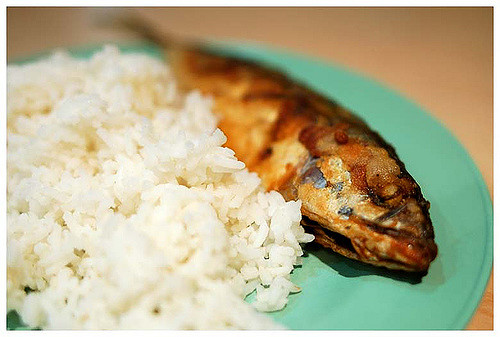plain rice: (9, 91, 284, 329)
